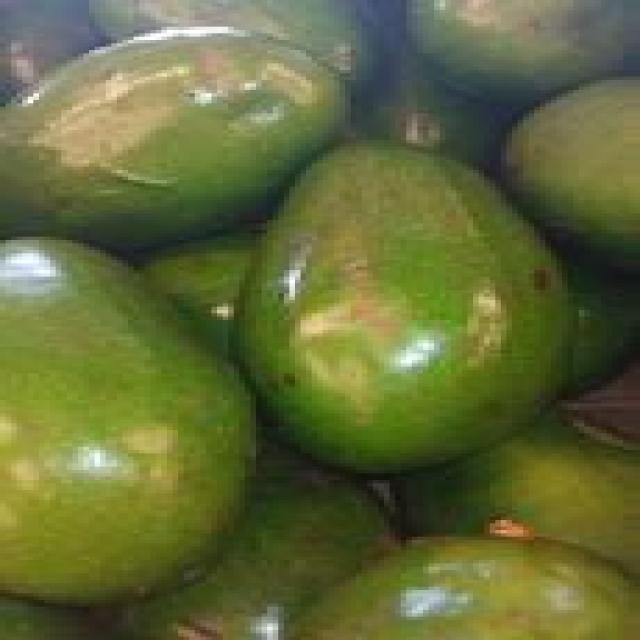avocado: (258, 124, 574, 472), (0, 228, 239, 612), (0, 17, 280, 232), (274, 528, 640, 640), (481, 54, 640, 247), (389, 0, 640, 96)
